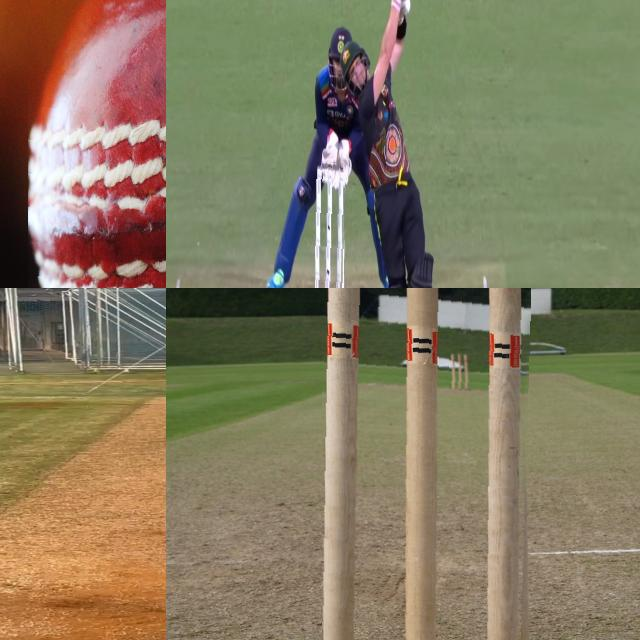Cricket ball: (28, 0, 166, 288)
Stumps: (322, 288, 532, 640), (314, 160, 346, 288), (449, 339, 474, 379)
